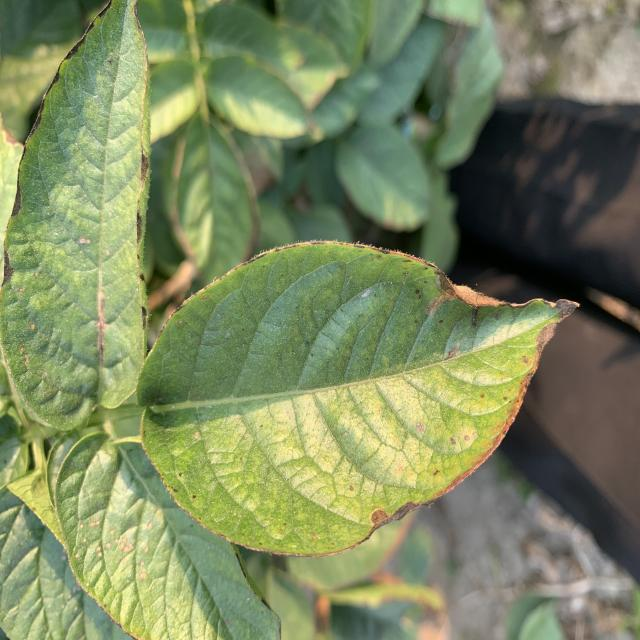lateblight: (440, 273, 510, 308), (365, 502, 430, 538)
